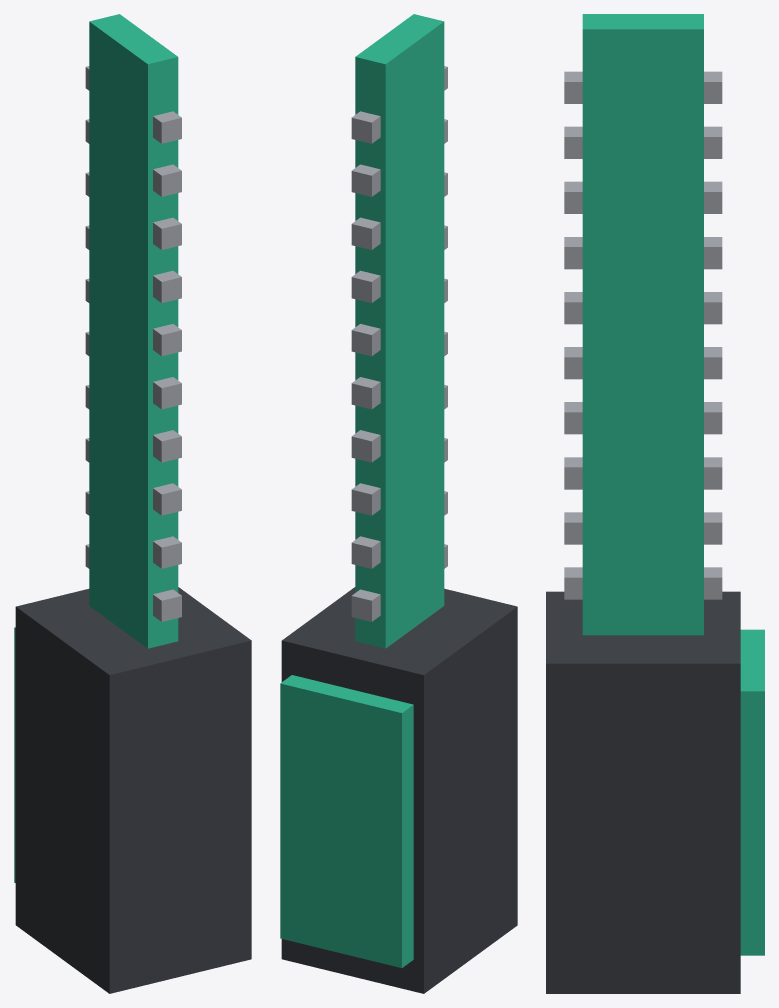
The model's file is mythril_chainsaw.glb.
The picture shows the model from 3 angles, left to right: view 1: azimuth 30°, elevation 25°; view 2: azimuth 150°, elevation 25°; view 3: azimuth 270°, elevation 25°; orthographic projection. The views are drawn at different scales.
Parts seen in each view (by area): view 1: mythril_chainsaw_v0; view 2: mythril_chainsaw_v0; view 3: mythril_chainsaw_v0.
Part boxes in pixels (left/top/right/bottom): mythril_chainsaw_v0: left=14, top=14, right=251, bottom=993; mythril_chainsaw_v0: left=280, top=14, right=517, bottom=993; mythril_chainsaw_v0: left=546, top=14, right=764, bottom=993.
Size of the model in its own units: 0.14 by 0.85 by 0.18.
